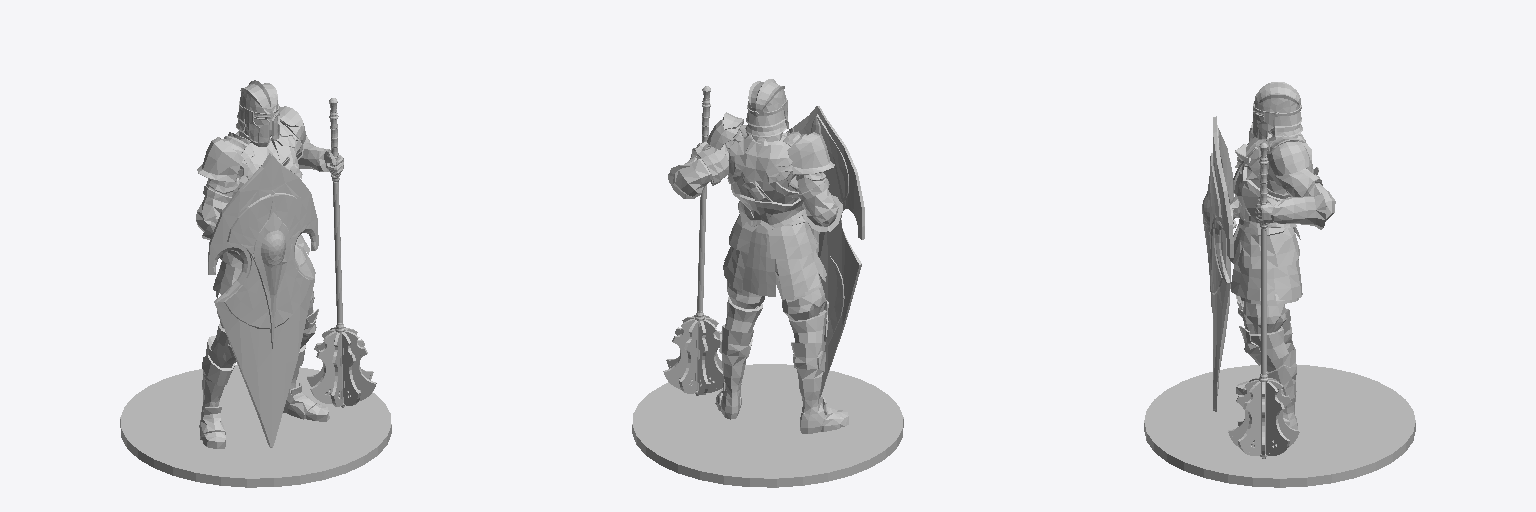
File: Ramm.obj
3 renders of one model, left to right at view 1: azimuth 30°, elevation 25°; view 2: azimuth 150°, elevation 25°; view 3: azimuth 270°, elevation 25°, orthographic.
Parts seen in each view (by area): view 1: MESH_GG_Shield2; view 2: MESH_GG_Shield2; view 3: MESH_GG_Shield2.
Boxes of the visible parts, box(x1,y1,x2,y2) form: MESH_GG_Shield2: box(120, 80, 391, 487); MESH_GG_Shield2: box(632, 79, 903, 487); MESH_GG_Shield2: box(1144, 82, 1415, 487).
Bounding box in the file's own units: 1.4 × 1.98 × 1.4.